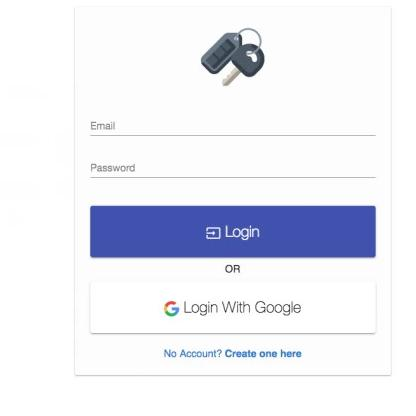button: (88, 203, 378, 260)
field_line: (87, 109, 376, 139), (86, 154, 378, 182)
